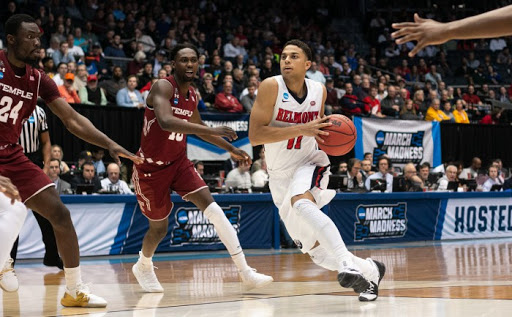ball: (310, 108, 358, 161)
defense: (124, 39, 275, 298)
